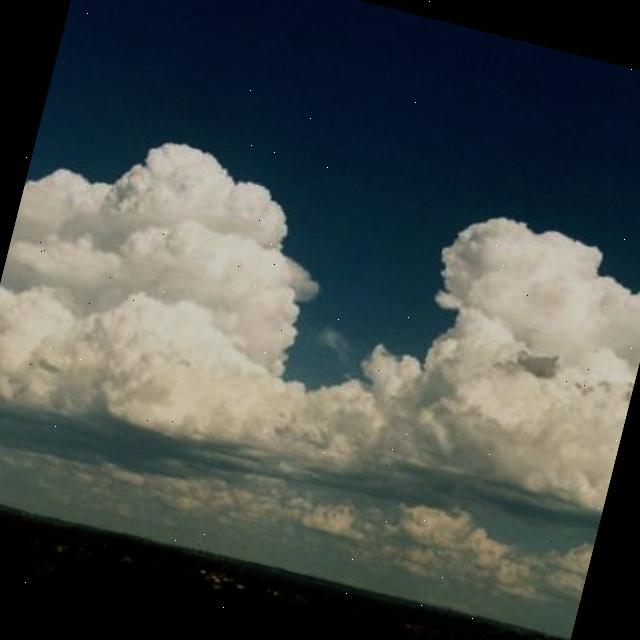Cu: (1, 52, 640, 545)
